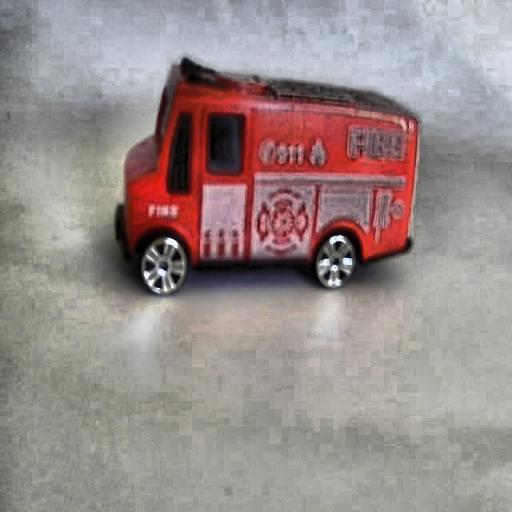fire_truck: (108, 50, 416, 300)
